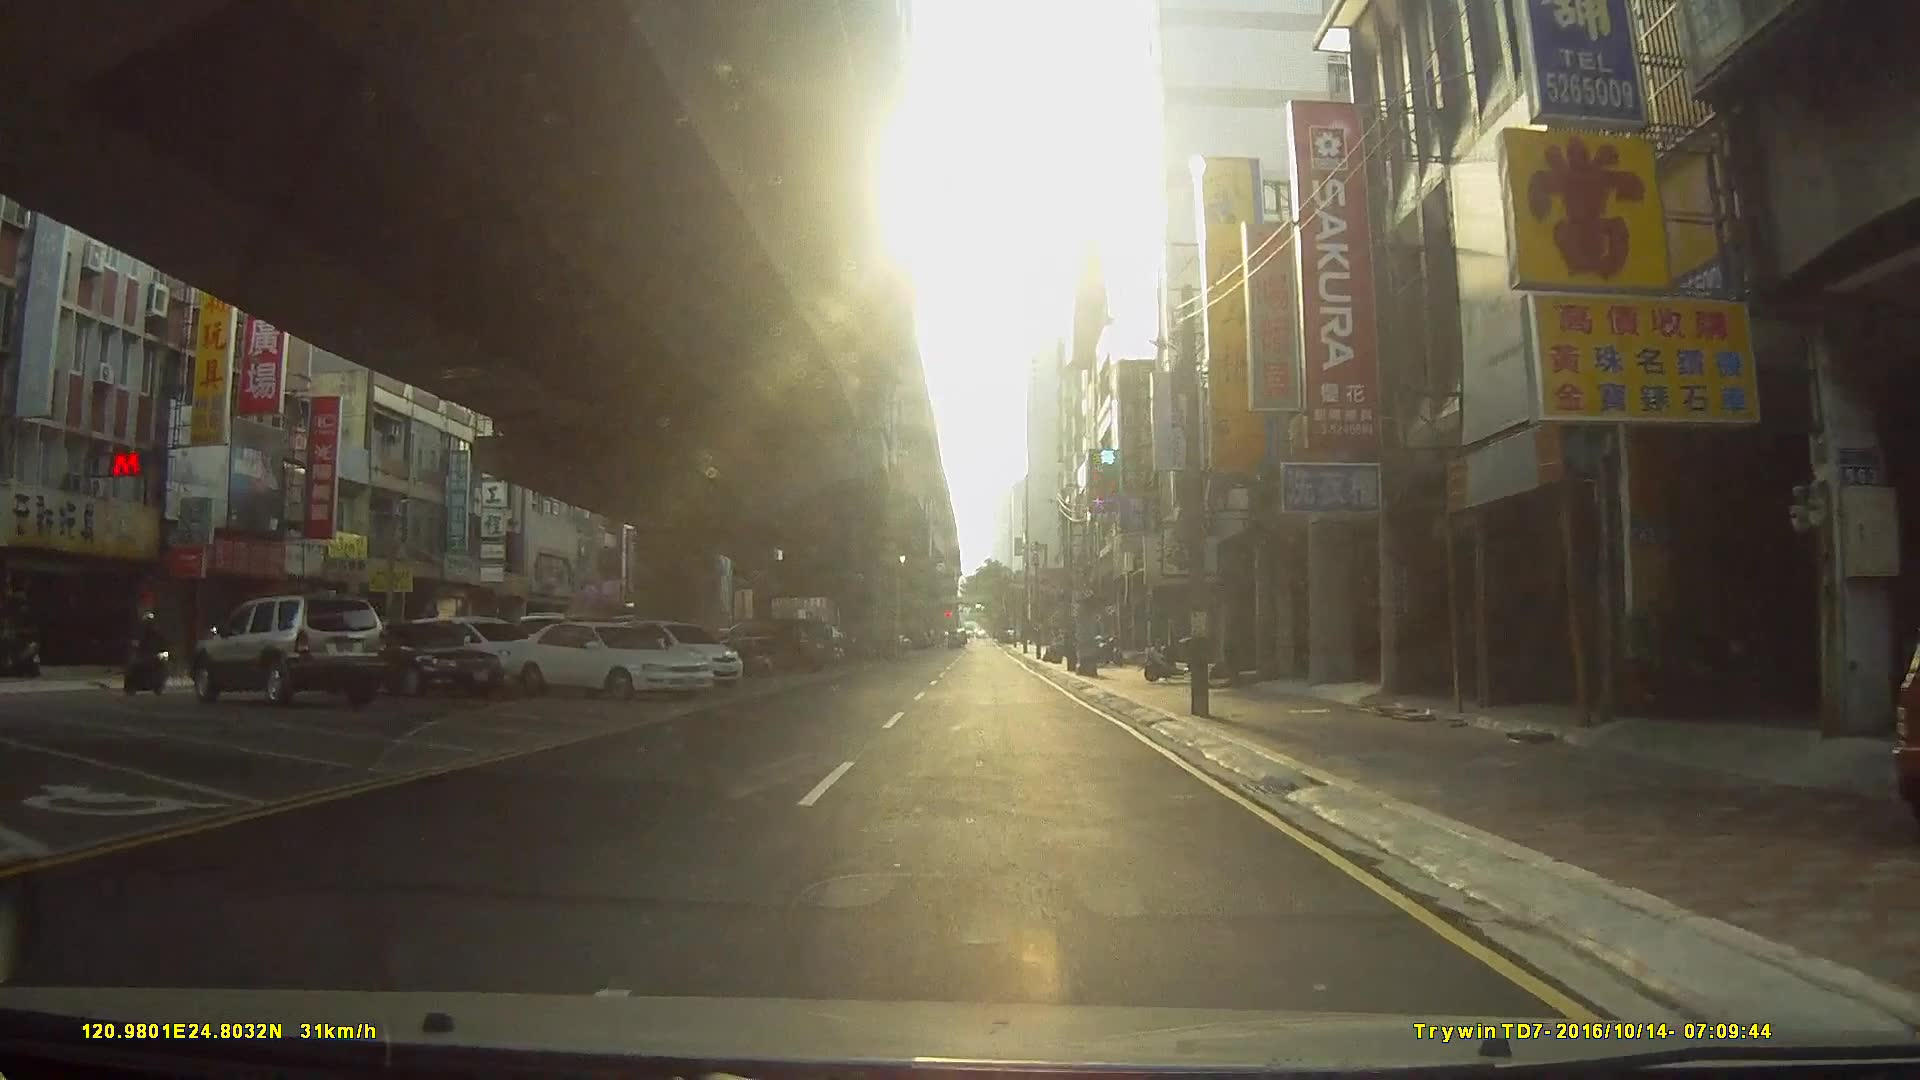rider: (122, 612, 177, 695)
vehicle: (187, 596, 385, 708), (500, 619, 717, 698), (293, 619, 503, 699)
